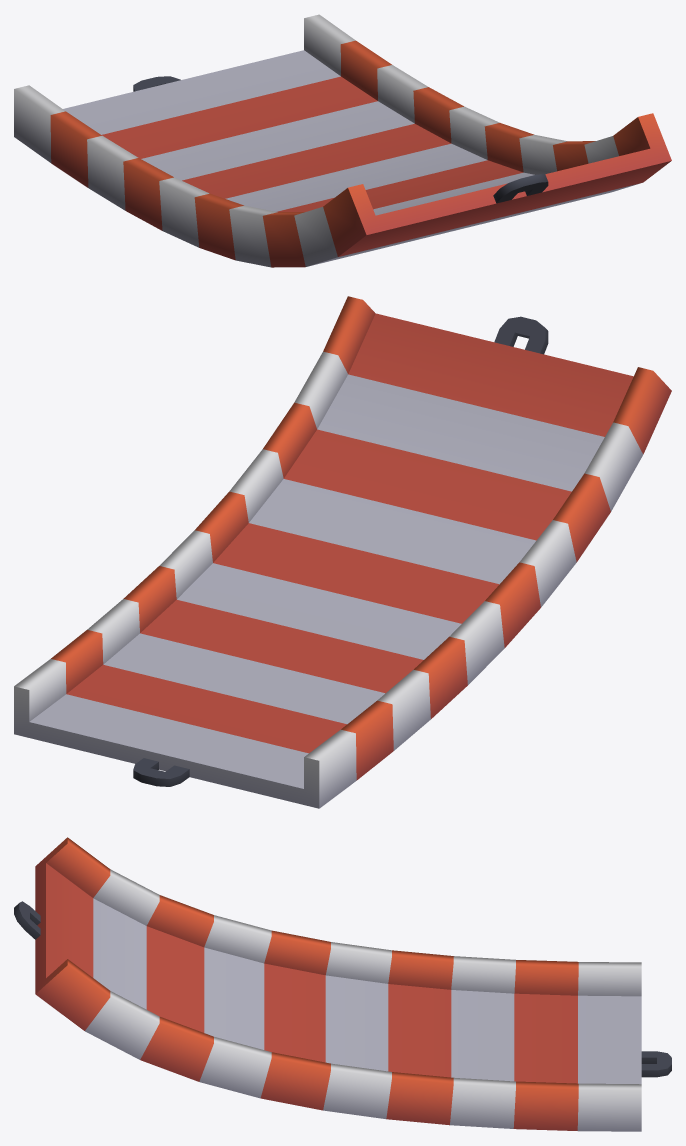
The model's file is track-striped-wide-straight-hill-beginning.glb.
3 views of the same model, one above another, from view 1: azimuth 30°, elevation 25°; view 2: azimuth 150°, elevation 25°; view 3: azimuth 270°, elevation 25° (orthographic). The views are drawn at different scales.
Parts seen in each view (by area): view 1: track-striped-wide-straight-hill-beginning; view 2: track-striped-wide-straight-hill-beginning; view 3: track-striped-wide-straight-hill-beginning.
Boxes of the visible parts, x1,y1,x2,y2 form: track-striped-wide-straight-hill-beginning: (14,14,671,267); track-striped-wide-straight-hill-beginning: (14,296,671,808); track-striped-wide-straight-hill-beginning: (14,837,671,1131).
Size of the model in its own units: 2 by 1.21 by 4.34.
